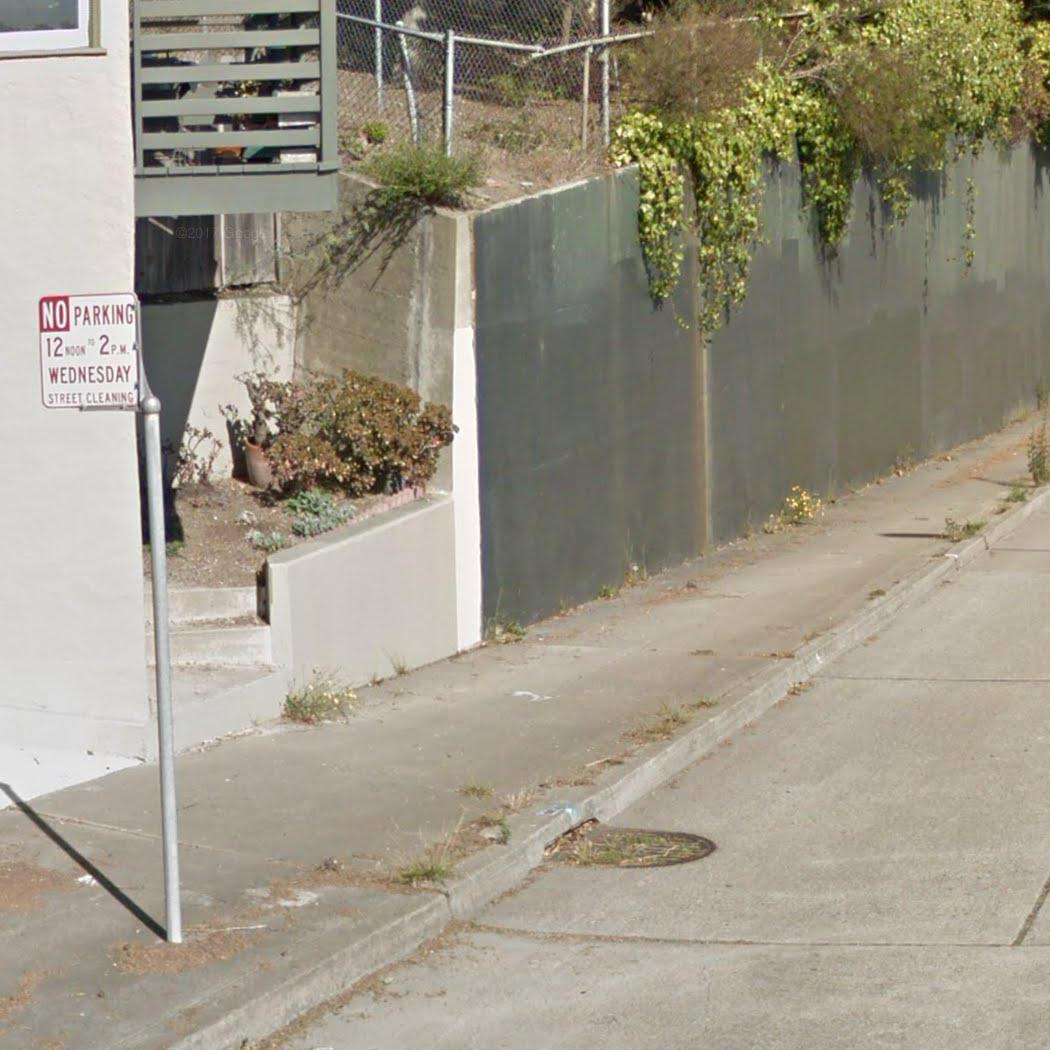No Parking: (35, 288, 147, 414)
